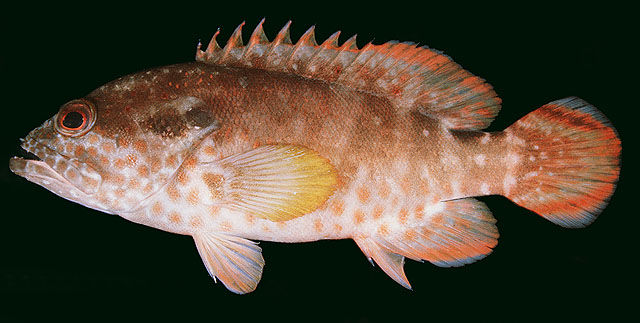fish: (12, 19, 621, 294)
